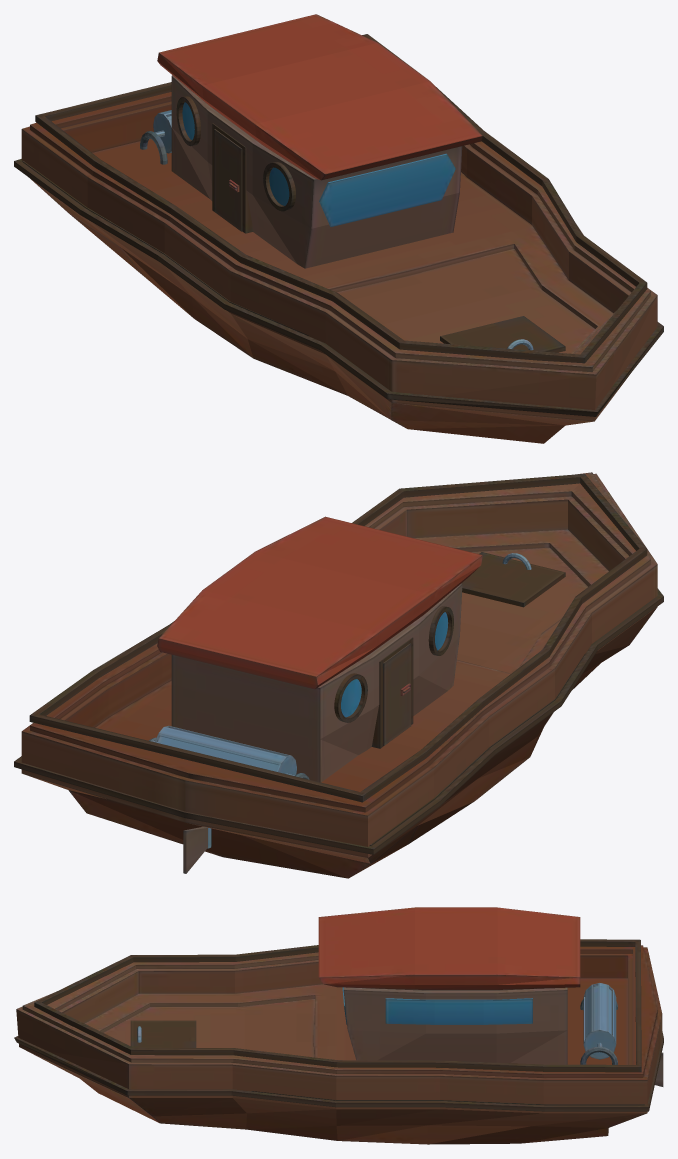
Rendered from veh_boat_watertaxi.glb.
3 views of the same model, one above another, from view 1: azimuth 30°, elevation 25°; view 2: azimuth 150°, elevation 25°; view 3: azimuth 270°, elevation 25° (orthographic). The views are drawn at different scales.
Parts seen in each view (by area): view 1: boat_watertaxi; view 2: boat_watertaxi; view 3: boat_watertaxi.
Boxes of the visible parts, <box> form: boat_watertaxi: <box>14,14,663,443</box>; boat_watertaxi: <box>14,472,663,878</box>; boat_watertaxi: <box>14,907,663,1144</box>.
Bounding box in the file's own units: 3.27 × 1.82 × 6.5.
Materials: 1 (1 with a texture image).
